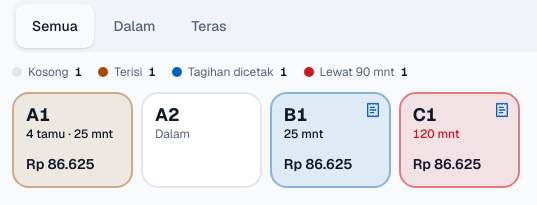
Test: TableBoard (15 · UX-04) › shows only the tables of the chosen area
Click the button "Teras".
click(209, 26)  # box x1=176 y1=4 x2=243 y2=48
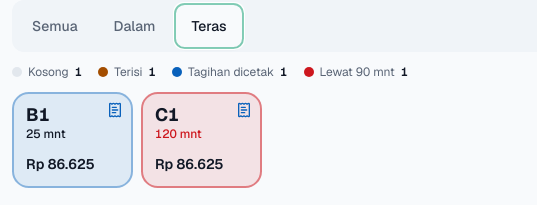
Expected: the button with aria-label "Meja B1" is shown, x1=12 y1=92 x2=133 y2=188
Click the button "Semua".
click(55, 26)  # box x1=16 y1=4 x2=94 y2=48
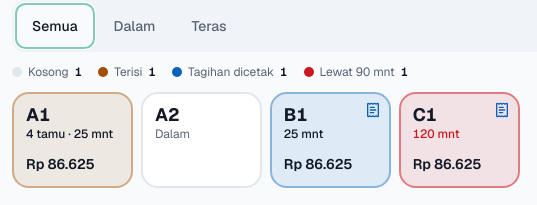
Expected: the button with aria-label "Meja A1" is shown, x1=12 y1=92 x2=133 y2=188
